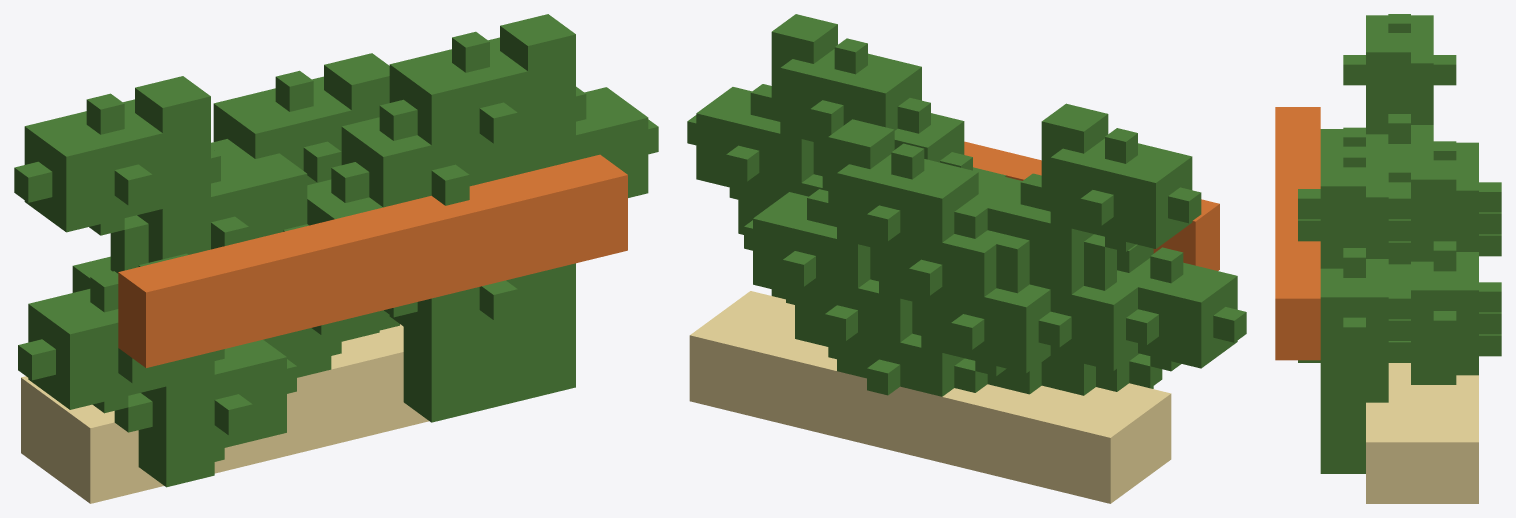
File: voxel_32_40055.glb
3 views of the same model, side by side, from view 1: azimuth 30°, elevation 25°; view 2: azimuth 150°, elevation 25°; view 3: azimuth 270°, elevation 25° (orthographic). The views are drawn at different scales.
Visible parts, largest first — view 1: prop_40055; view 2: prop_40055; view 3: prop_40055.
Part boxes in pixels (x1=…): prop_40055: x1=14, y1=14, x2=658, y2=503; prop_40055: x1=687, y1=14, x2=1246, y2=503; prop_40055: x1=1275, y1=14, x2=1501, y2=503.
Size of the model in its own units: 0.6744 by 0.3891 by 0.2594.
